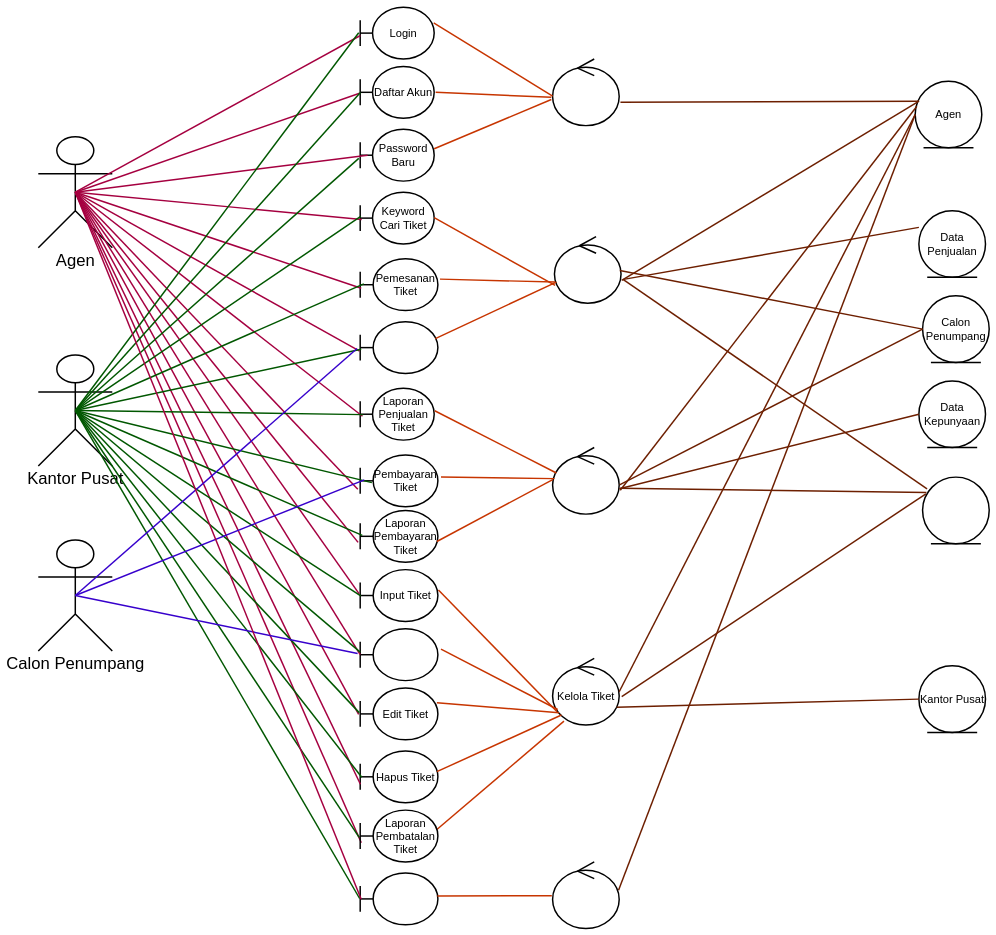
The diagram is 996 pixels wide and 935 high, and some of its shapes have lost their labels. The shapes that lost their labels are listed below. From the top down, each one's centre as x and y in pixels, then its label:
the point at 586,92: Kelola Login
the point at 588,270: Kelola Pemesanan Tiket
the point at 398,347: Pembatalan Tiket
the point at 586,481: Kelola Penjualan Tiket
the point at 956,510: Tiket
the point at 398,654: Liat Tiket
the point at 398,898: Logout
the point at 586,895: Kelola Logout
